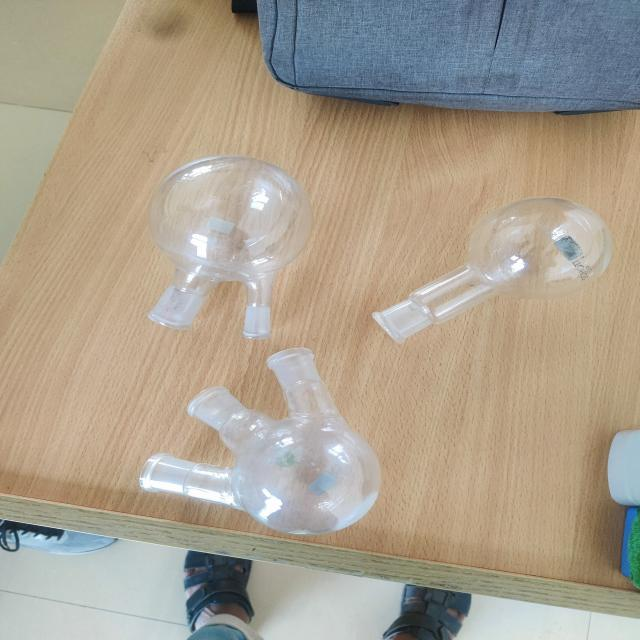Round_Bottom_Flask_Borosilicate_Glass_1_Neck: (365, 165, 640, 375)
Round_Bottom_Flask_Borosilicate_Glass_2_Neck: (113, 120, 330, 349)
Round_Bottom_Flask_Borosilicate_Glass_3_Neck: (86, 341, 413, 576)
